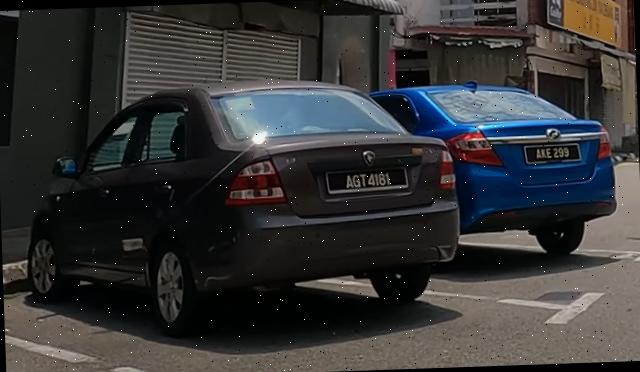License_Plate: (333, 173, 403, 190), (529, 147, 579, 163)
car: (20, 72, 465, 341), (368, 76, 621, 264)
